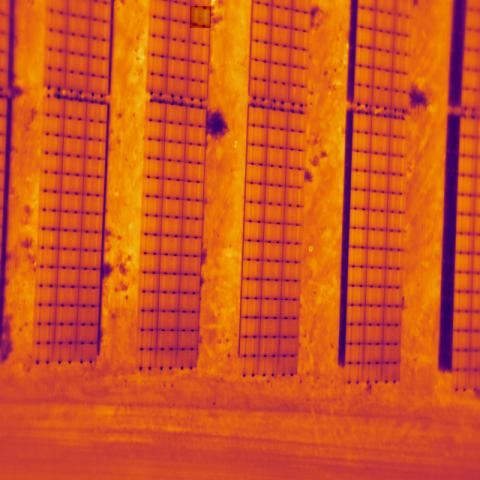fault: (190, 6, 211, 28)
